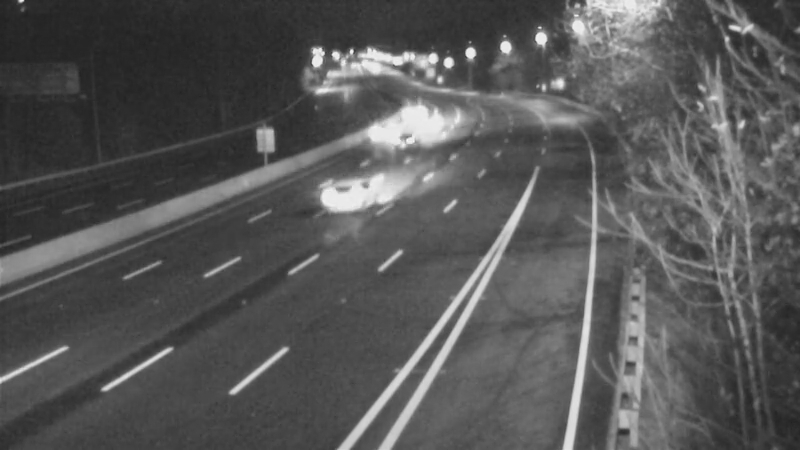vehicle: (303, 154, 383, 234), (388, 83, 438, 133), (410, 98, 460, 148), (355, 101, 405, 151), (383, 115, 433, 165)
